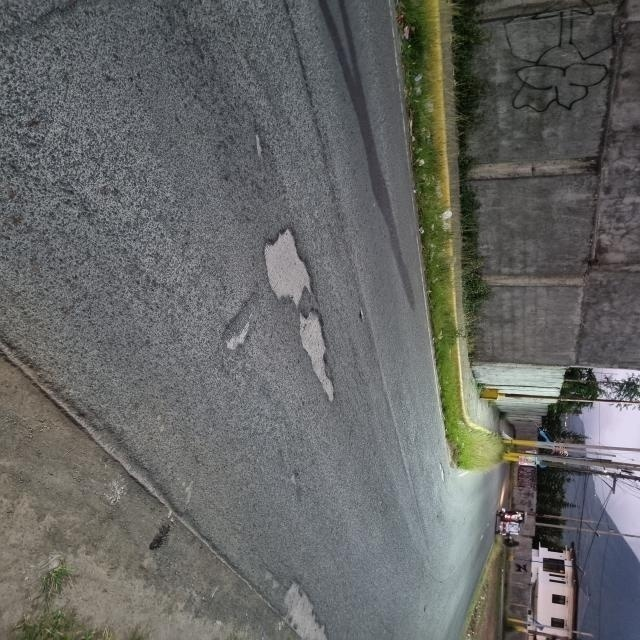pothole: (220, 200, 348, 318), (274, 299, 369, 429), (237, 114, 272, 182)
